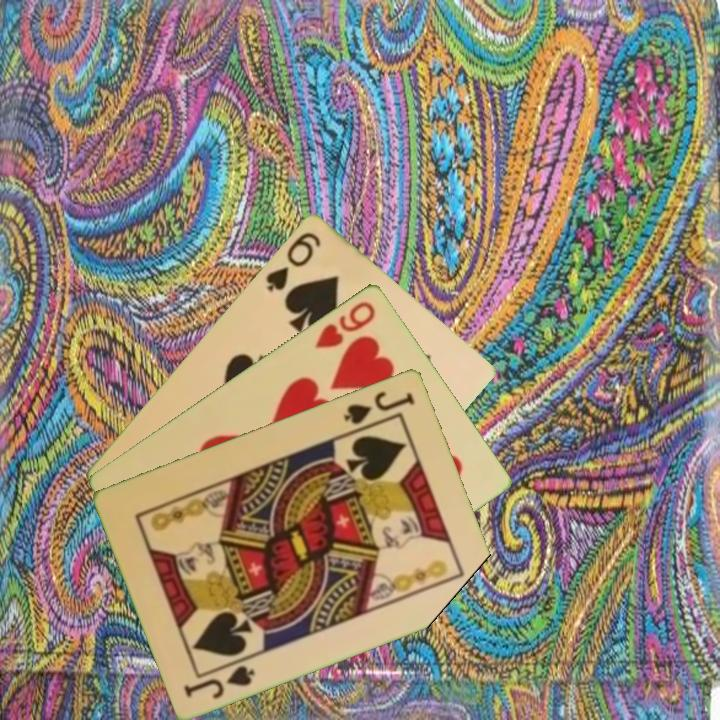6s: (262, 228, 324, 294)
9h: (312, 297, 379, 351)
Js: (180, 661, 259, 701), (340, 387, 418, 427)
